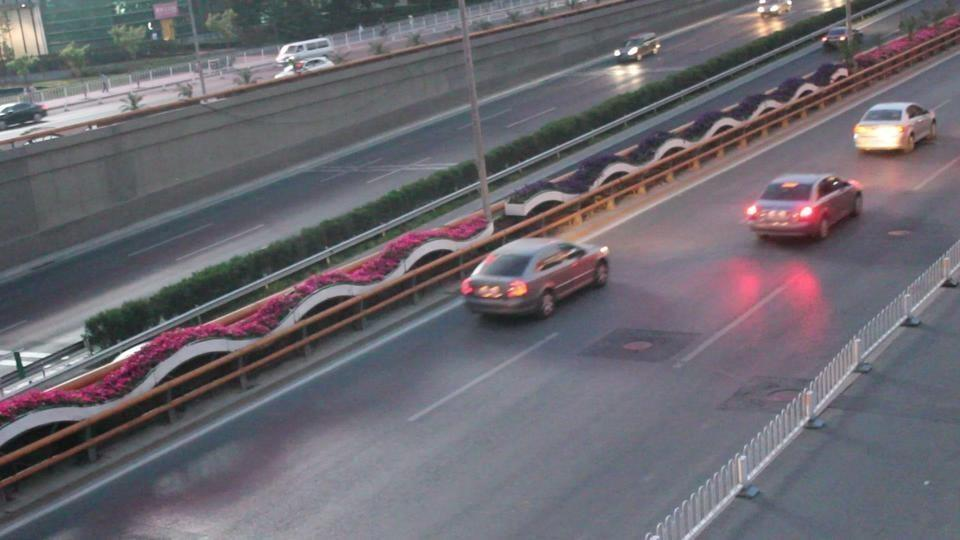car: (460, 237, 610, 320), (503, 154, 640, 220), (744, 172, 863, 243), (852, 101, 938, 154), (276, 39, 335, 71), (616, 31, 662, 62), (279, 54, 337, 77), (0, 100, 48, 127), (756, 0, 793, 16)
